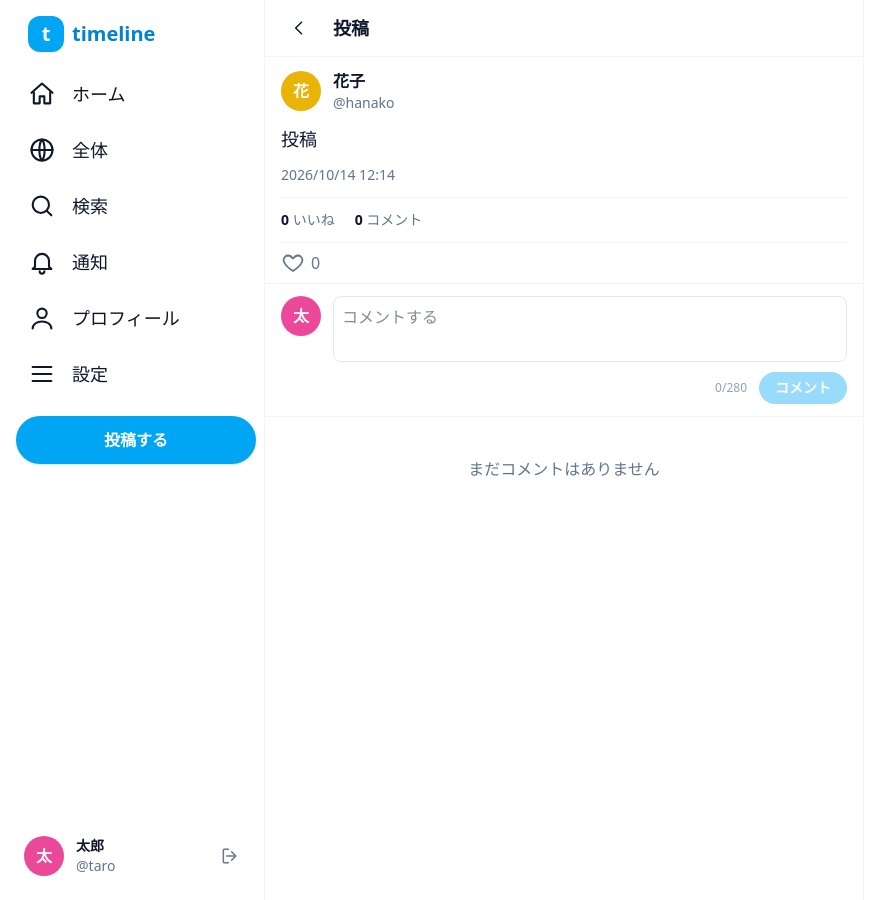
Scenario: コメント › 送信に失敗したら本文を入力欄に戻してエラーを出す
Type "消えないでほしい" into the text box named "コメントの本文" at (590, 329), box [333,296,847,362]
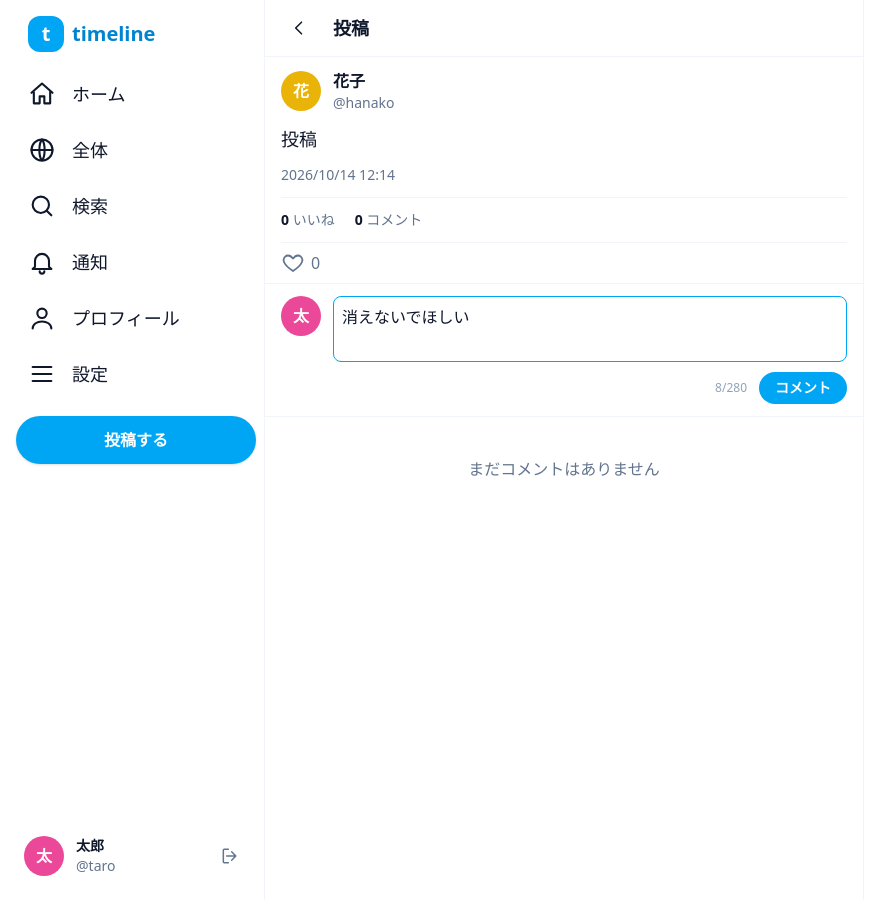
Click the button "コメント" at (803, 388), box [759,372,847,404]
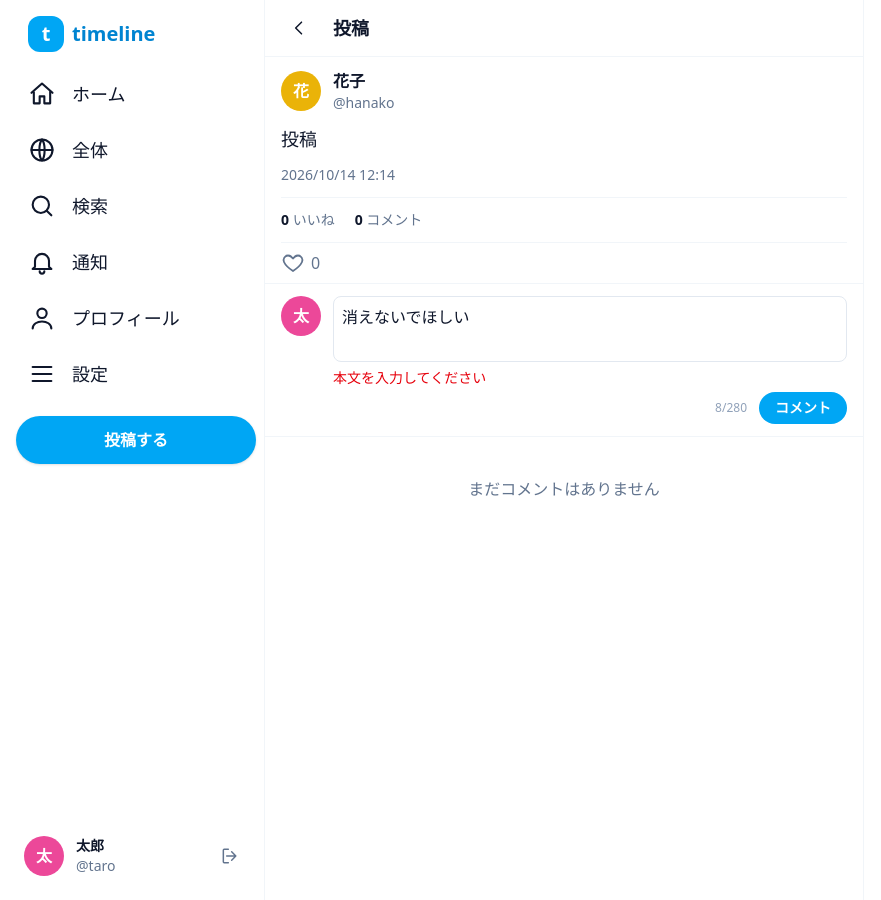
Now the message reads "本文を入力してください", box [333,368,486,387]
